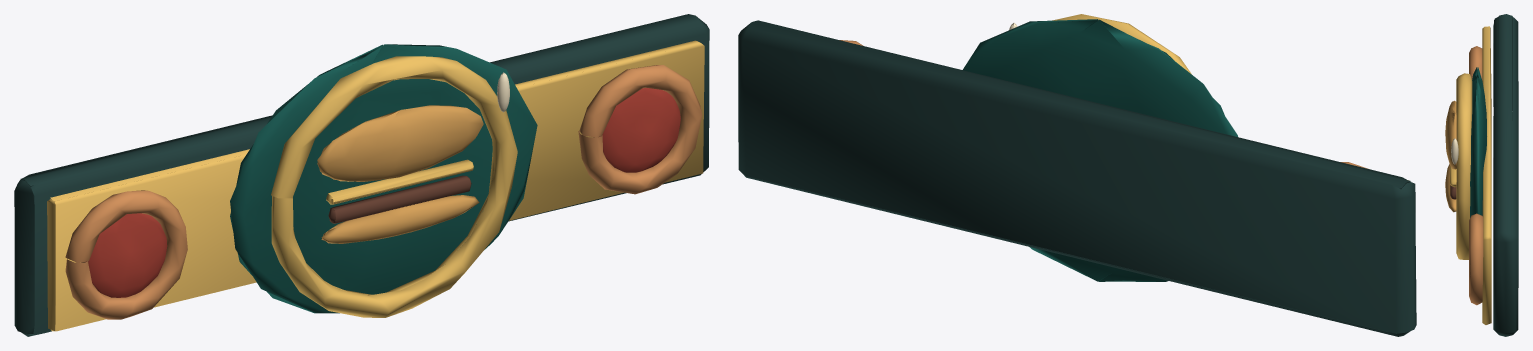
The picture shows the model from 3 angles, left to right: view 1: azimuth 30°, elevation 25°; view 2: azimuth 150°, elevation 25°; view 3: azimuth 270°, elevation 25°; orthographic projection. The views are drawn at different scales.
Parts seen in each view (by area): view 1: Gold belt backing, Burger medallion, Championship leather, Side medal, Relief bun, Side enamel, Relief patty; view 2: Championship leather, Burger medallion, Gold belt backing; view 3: Championship leather, Gold belt backing, Burger medallion, Side medal, Relief bun, Enamel glint, Relief patty.
Part boxes in pixels (x1,y1,x2,y2): Gold belt backing: (47,40,704,331); Burger medallion: (230,44,537,313); Championship leather: (14,14,709,336); Side medal: (65,65,702,319); Relief bun: (317,105,483,243); Side enamel: (85,88,680,297); Relief patty: (328,175,471,223); Championship leather: (738,20,1416,336); Burger medallion: (963,19,1237,281); Gold belt backing: (1052,14,1191,74); Championship leather: (1493,14,1518,336); Gold belt backing: (1450,26,1491,324); Burger medallion: (1470,67,1486,217); Side medal: (1469,46,1483,305); Relief bun: (1445,100,1456,212); Enamel glint: (1451,138,1458,164); Relief patty: (1450,185,1456,199).
Bounding box in the file's own units: 1.67 × 0.6201 × 0.2303.
